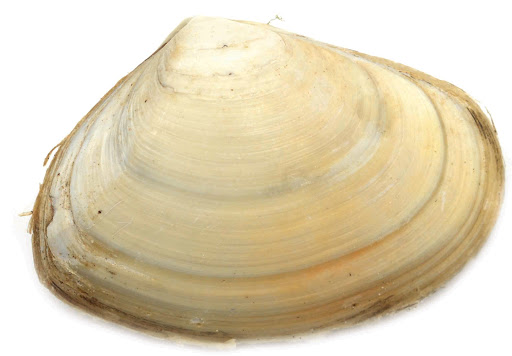tuatua: (29, 13, 507, 344)
